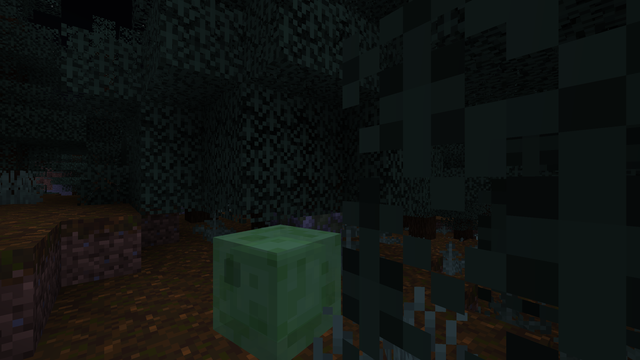slimes: (216, 221, 329, 359)
